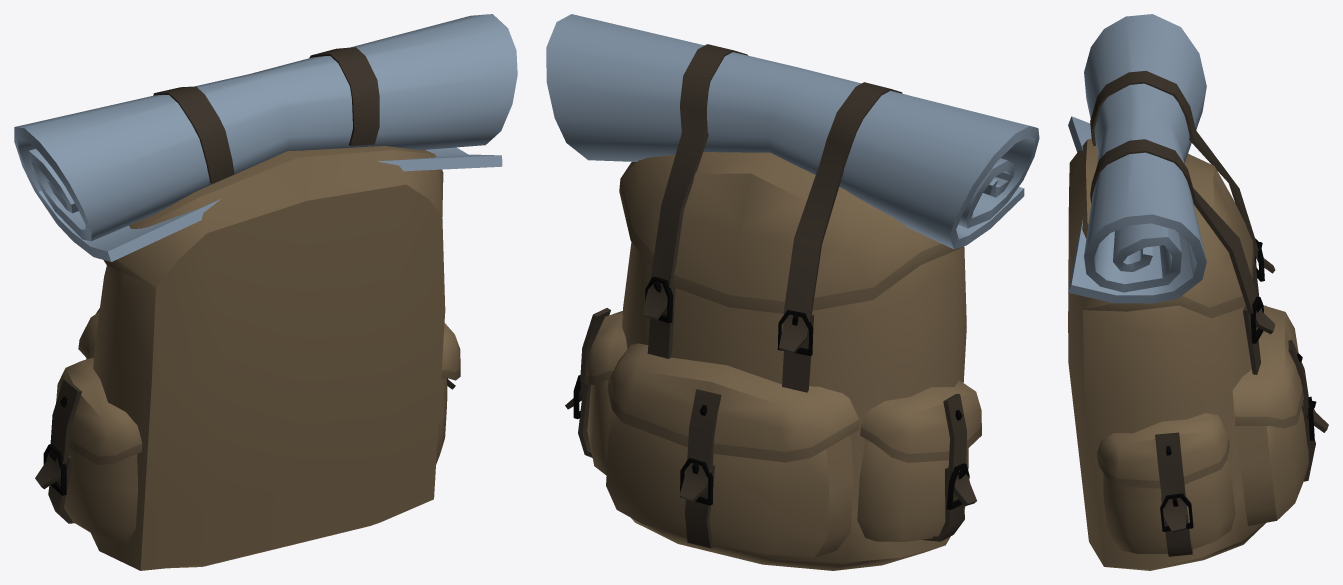
File: bag_1.fbx
The picture shows the model from 3 angles, left to right: view 1: azimuth 30°, elevation 25°; view 2: azimuth 150°, elevation 25°; view 3: azimuth 270°, elevation 25°; orthographic projection. The views are drawn at different scales.
Parts seen in each view (by area): view 1: Backpack.001; view 2: Backpack.001; view 3: Backpack.001.
Part boxes in pixels (x1,y1,x2,y2): Backpack.001: (14, 14, 517, 570); Backpack.001: (546, 14, 1039, 570); Backpack.001: (1068, 14, 1328, 570).
Size of the model in its own units: 240 by 225 by 132.
